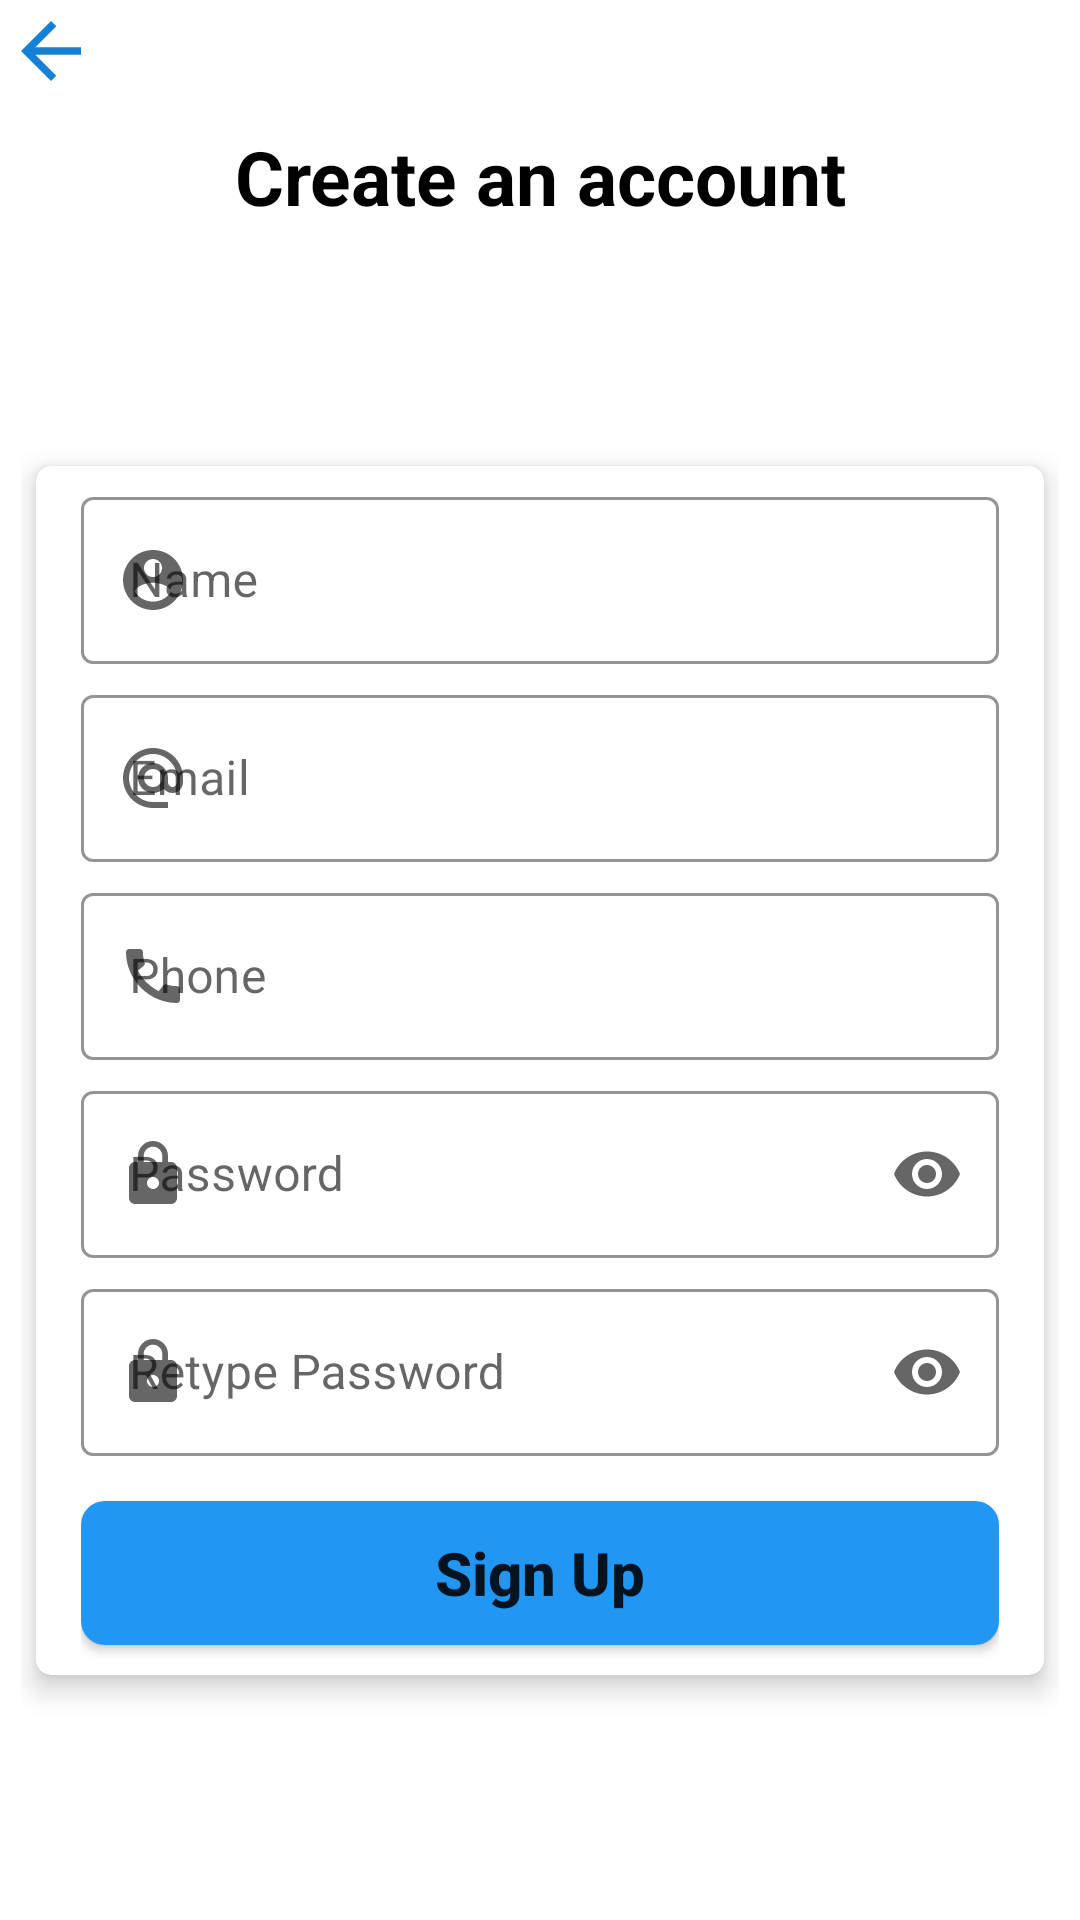

Named icons in this screenshot (1080x1920) and their centers, (x=x, y=y):
arrowback: (x=51, y=51)
